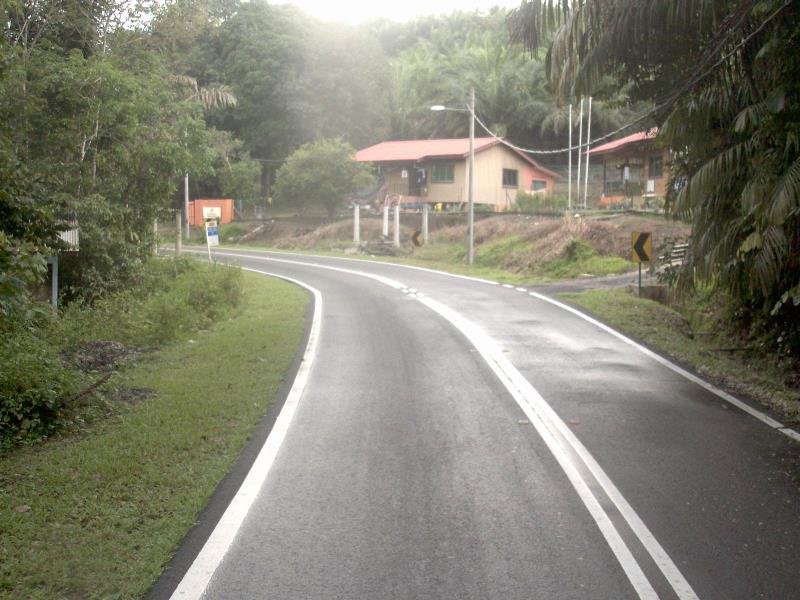traffic_sign: (623, 225, 661, 271)
